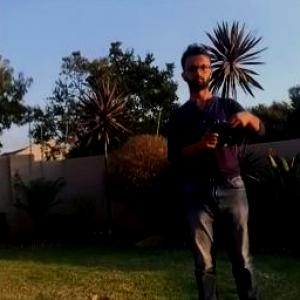follow: (161, 34, 273, 299)
